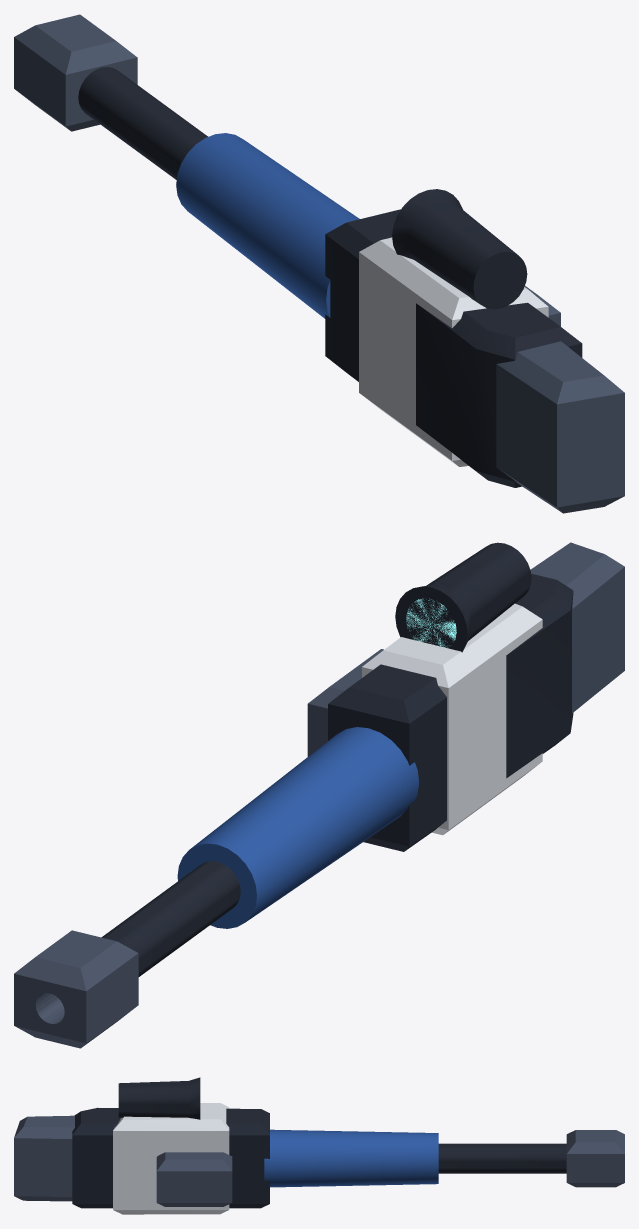
The model's file is w_a_raid_gun.glb.
The picture shows the model from 3 angles, top to bottom: view 1: azimuth 30°, elevation 25°; view 2: azimuth 150°, elevation 25°; view 3: azimuth 270°, elevation 25°; orthographic projection. The views are drawn at different scales.
Parts seen in each view (by area): view 1: weapon_body, weapon_team_color; view 2: weapon_body, weapon_team_color, weapon; view 3: weapon_body, weapon_team_color.
Part boxes in pixels (bbox=[...]): weapon_body: bbox=[14, 14, 624, 513]; weapon_team_color: bbox=[359, 237, 548, 466]; weapon_body: bbox=[14, 542, 624, 1048]; weapon_team_color: bbox=[362, 603, 542, 835]; weapon: bbox=[406, 598, 456, 647]; weapon_body: bbox=[14, 1077, 624, 1208]; weapon_team_color: bbox=[113, 1103, 229, 1214].
Bounding box in the file's own units: 0.93 × 1.44 × 6.3.
